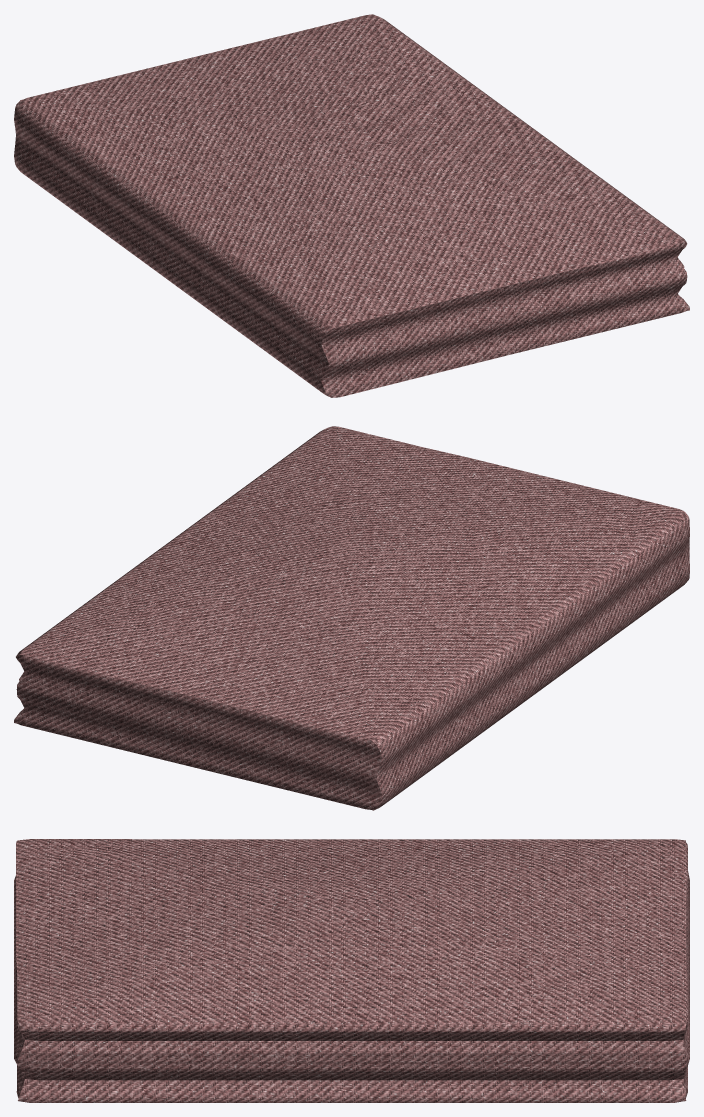
Rendered from Toalla blanca.fbx.
3 views of the same model, one above another, from view 1: azimuth 30°, elevation 25°; view 2: azimuth 150°, elevation 25°; view 3: azimuth 270°, elevation 25° (orthographic). The views are drawn at different scales.
Parts seen in each view (by area): view 1: Box001; view 2: Box001; view 3: Box001.
Boxes of the visible parts, x1,y1,x2,y2 form: Box001: (14,14,689,397); Box001: (14,426,689,810); Box001: (14,839,689,1102).
Size of the model in its own units: 51.6 by 12.96 by 76.21.
